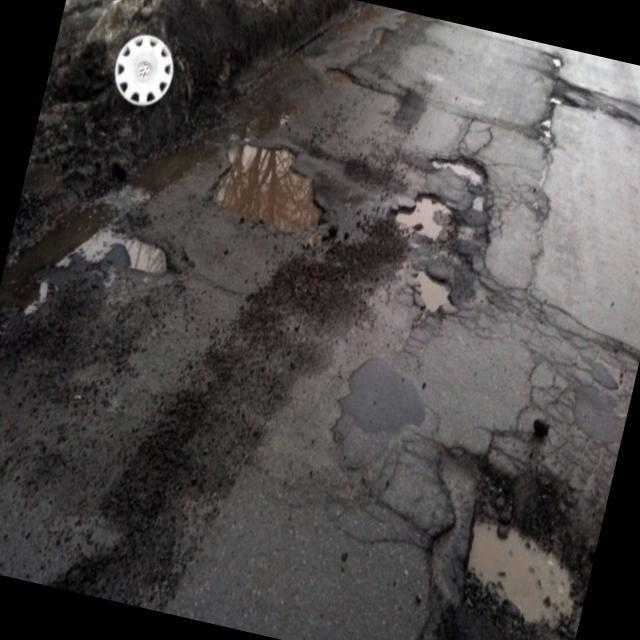Pothole: (362, 133, 513, 337), (436, 463, 602, 640), (192, 110, 353, 266), (27, 199, 192, 346)
